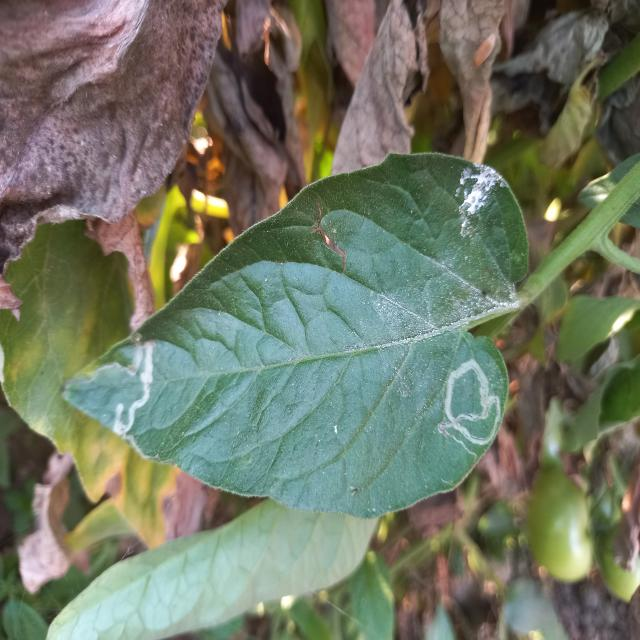Tuta absoluta: (434, 355, 511, 457), (109, 337, 166, 440)
